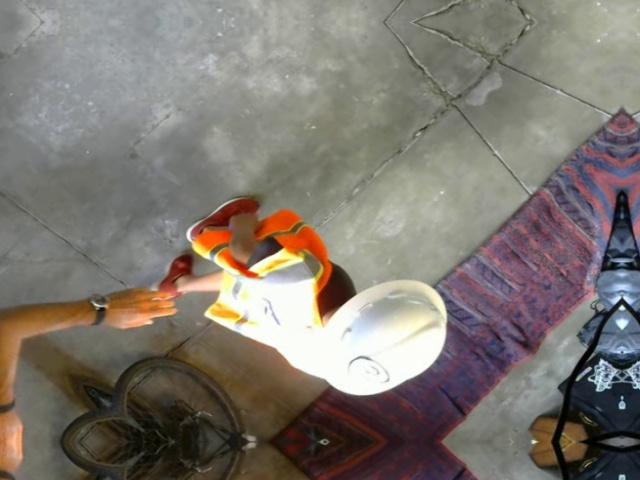three: (339, 348, 395, 396)
